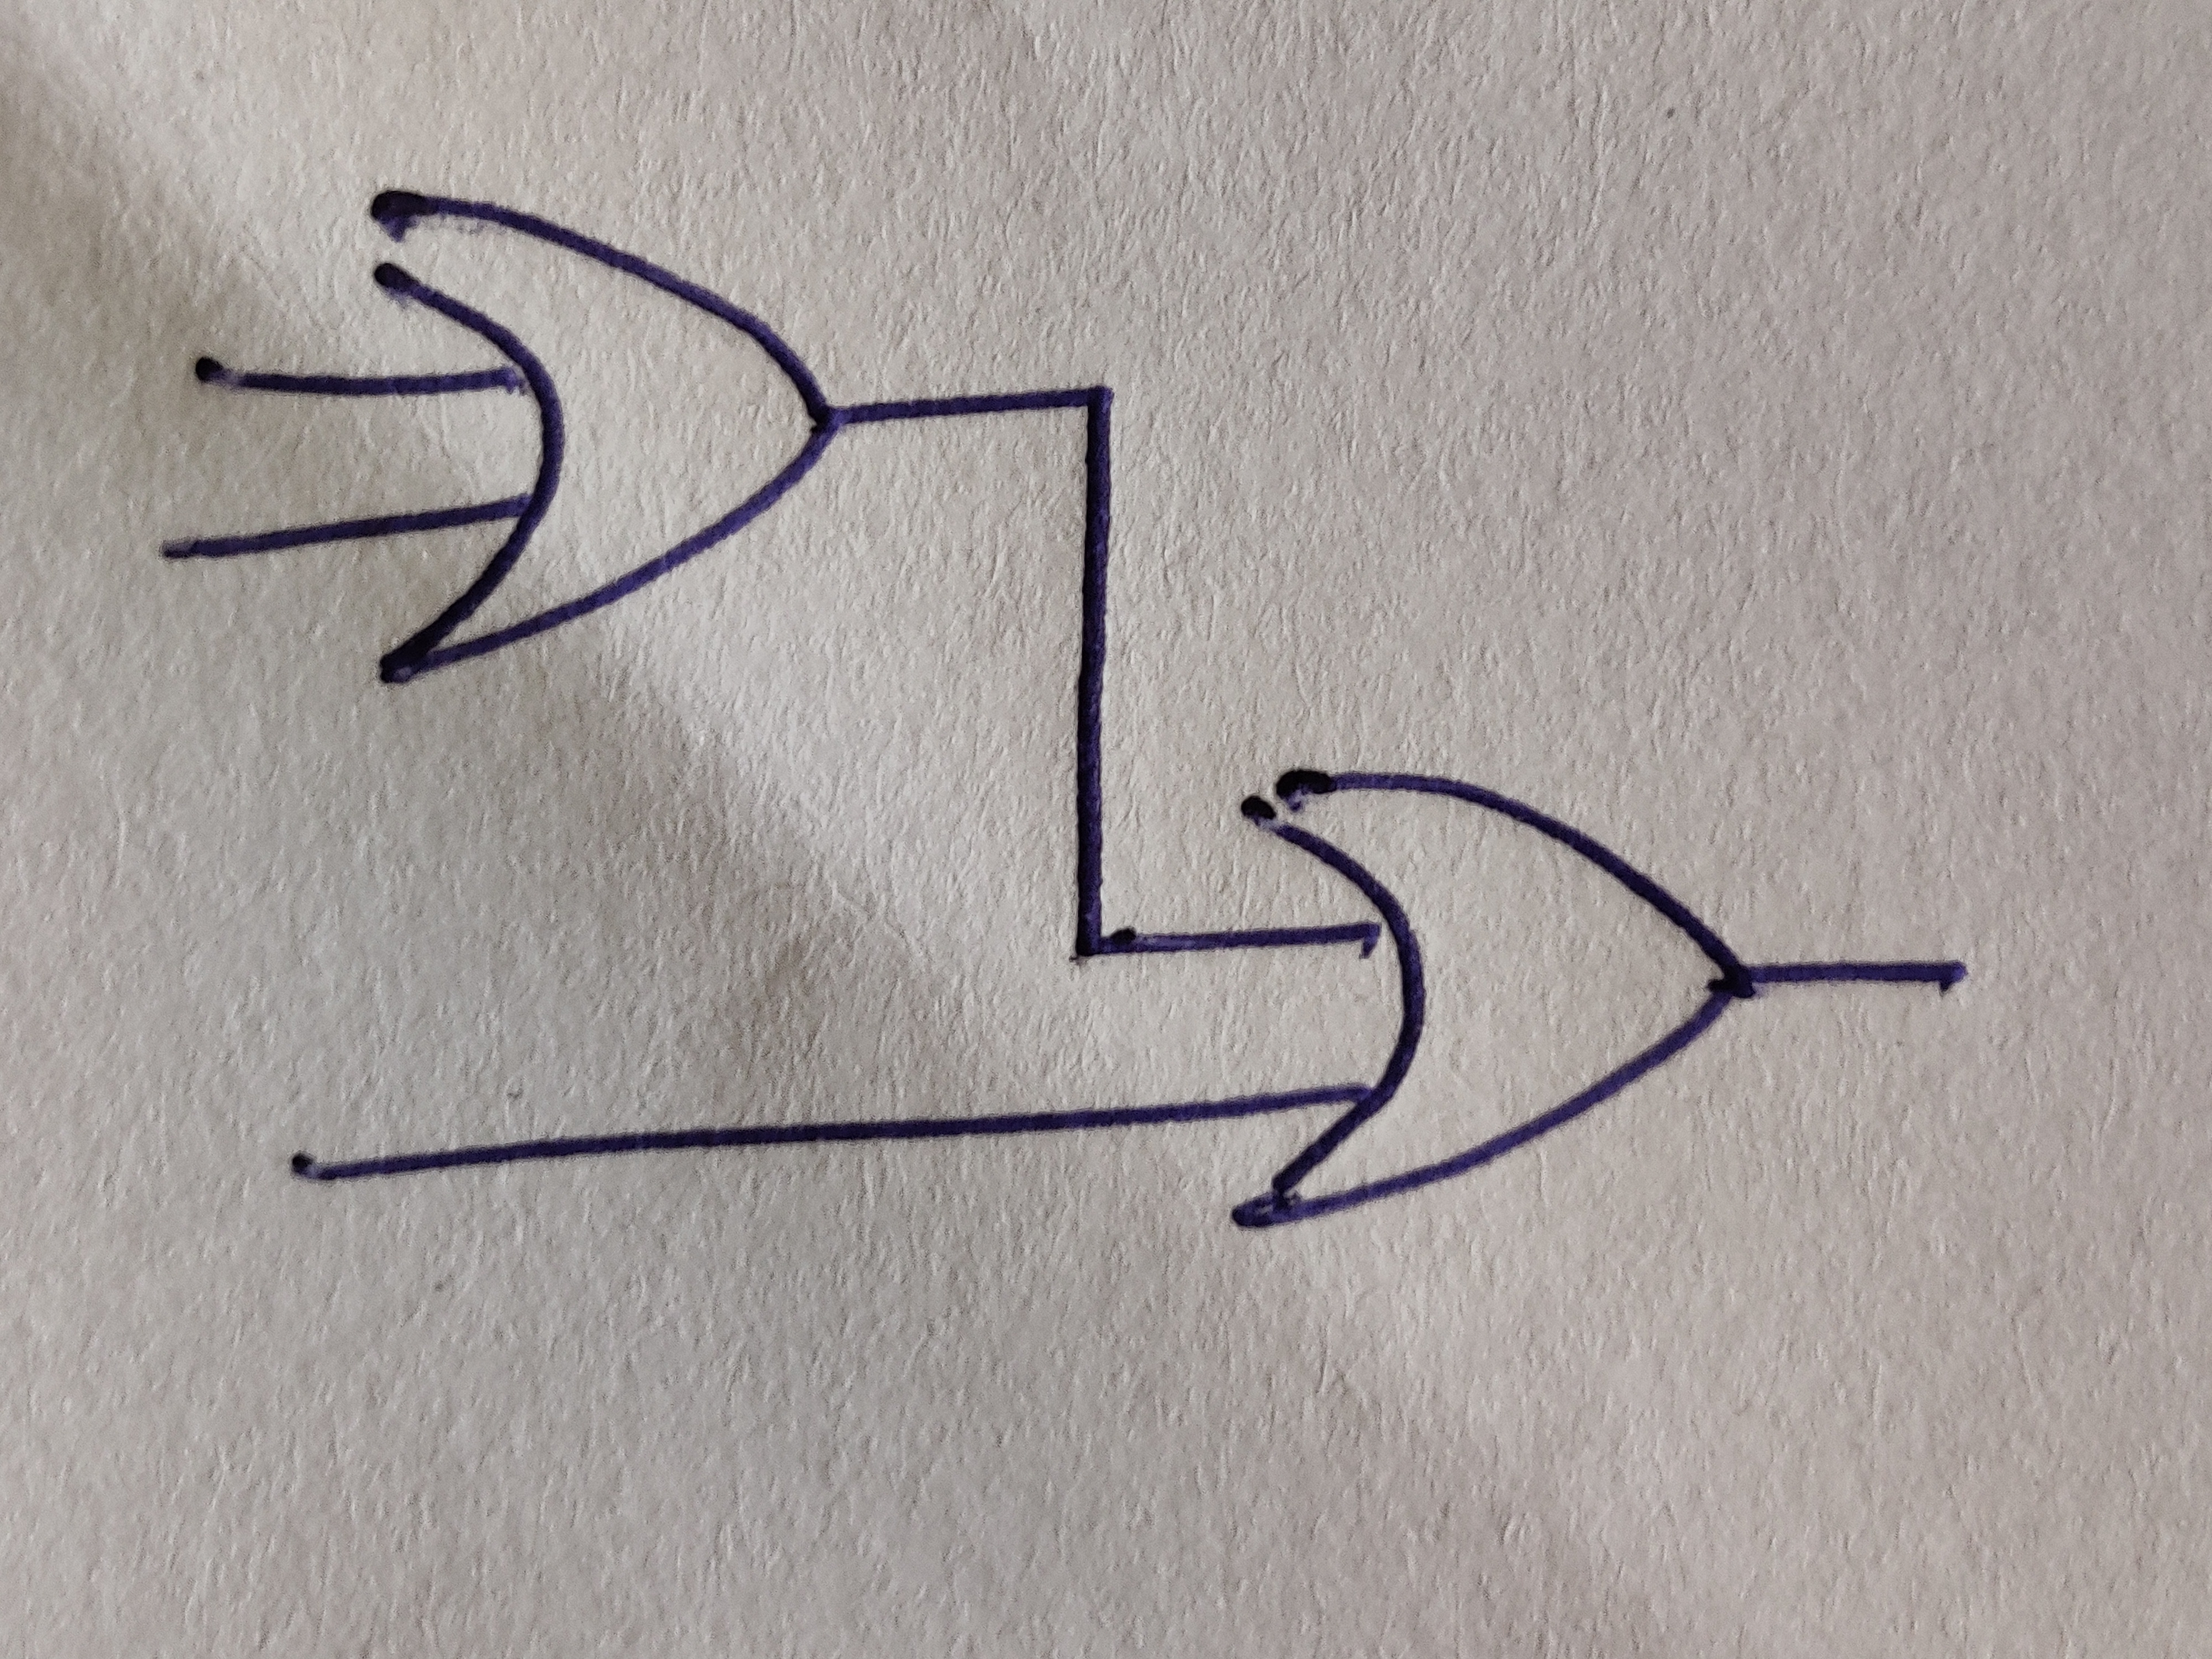or: (1231, 769, 1759, 1229), (371, 190, 845, 685)
